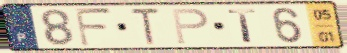6: (271, 6, 305, 45)
8: (38, 8, 76, 47)
F: (73, 7, 116, 48)
P: (169, 7, 211, 46)
T: (128, 7, 163, 47), (226, 8, 260, 44)
